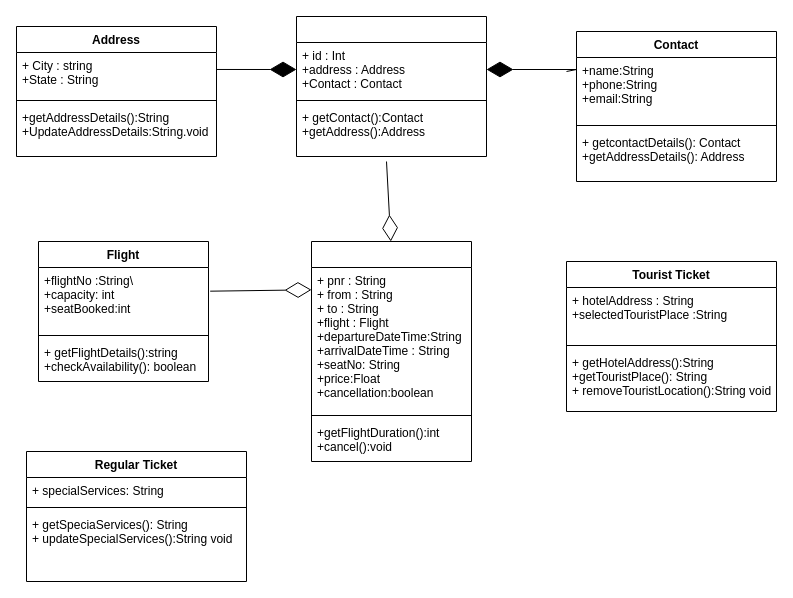
The diagram is 793 pixels wide and 598 high, and some of its shapes have lost their labels. The shapes that lost their labels are listed below. From the top down, each one's box as (x1, y1, x2, y2) in pixels, then its label:
(296, 16, 486, 156): Passanger
(310, 240, 472, 462): Classname
